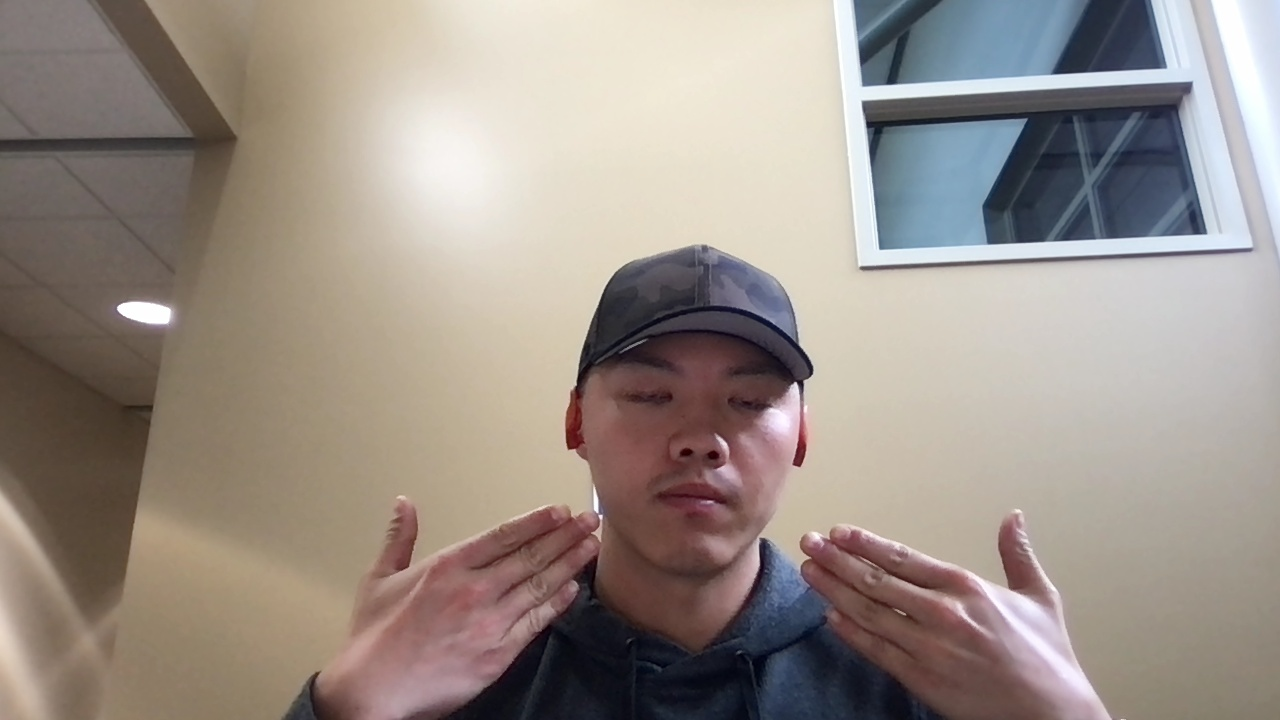Thank You: (344, 493, 1107, 720)
